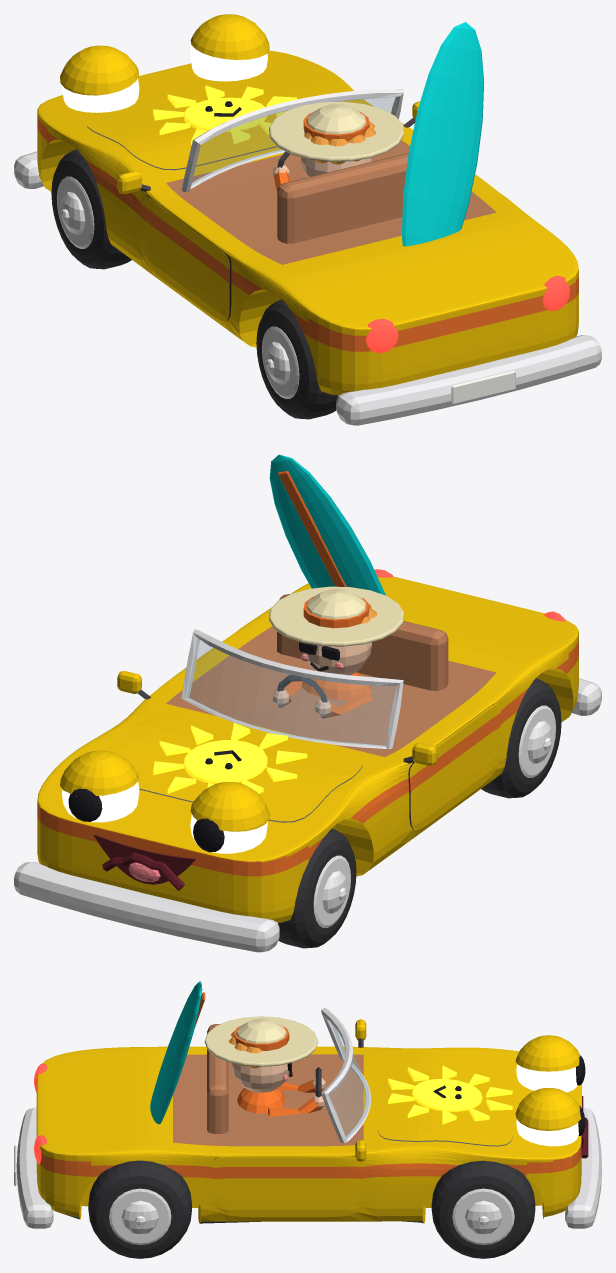
The model's file is car_sunny.glb.
3 renders of one model, top to bottom at view 1: azimuth 30°, elevation 25°; view 2: azimuth 150°, elevation 25°; view 3: azimuth 270°, elevation 25°, orthographic. The views are drawn at different scales.
Parts seen in each view (by area): view 1: body, extra_surfboard, hood, extra_seat, bumper_r, driver, door_l, face_lids, wheel_rl, wheel_fl, glass_f, light_f (+7 smaller); view 2: body, hood, glass_f, driver, bumper_f, extra_surfboard, door_l, face_lids, wheel_fl, extra_seat, wheel_rl, extra_frame (+7 smaller); view 3: body, hood, door_r, driver, wheel_fr, wheel_rr, face_lids, extra_surfboard, bumper_r, bumper_f, light_f, extra_frame (+4 smaller).
Part boxes in pixels (<box>): body: <box>37,51,578,396</box>; extra_surfboard: <box>402,22,484,246</box>; hood: <box>87,71,352,168</box>; extra_seat: <box>277,153,408,243</box>; bumper_r: <box>336,335,601,425</box>; driver: <box>269,101,404,189</box>; door_l: <box>140,195,229,321</box>; face_lids: <box>60,14,269,95</box>; wheel_rl: <box>256,299,337,419</box>; wheel_fl: <box>51,149,131,269</box>; glass_f: <box>191,97,395,185</box>; light_f: <box>62,45,267,112</box>; body: <box>37,576,578,924</box>; hood: <box>103,713,362,821</box>; glass_f: <box>186,637,396,746</box>; driver: <box>269,586,404,718</box>; bumper_f: <box>14,862,279,952</box>; extra_surfboard: <box>269,454,385,595</box>; door_l: <box>409,703,500,829</box>; face_lids: <box>60,750,269,831</box>; wheel_fl: <box>278,828,356,948</box>; extra_seat: <box>277,594,448,690</box>; wheel_rl: <box>481,678,561,798</box>; extra_frame: <box>181,629,403,749</box>; body: <box>36,1046,581,1223</box>; hood: <box>377,1052,513,1145</box>; door_r: <box>213,1155,363,1217</box>; driver: <box>204,1016,325,1116</box>; wheel_fr: <box>431,1160,535,1258</box>; wheel_rr: <box>88,1160,191,1258</box>; face_lids: <box>515,1035,581,1130</box>; extra_surfboard: <box>150,981,205,1124</box>; bumper_r: <box>16,1107,53,1228</box>; bumper_f: <box>565,1107,601,1228</box>; light_f: <box>516,1064,578,1146</box>; extra_frame: <box>321,1007,371,1142</box>.
Size of the model in its own units: 2.25 by 2.14 by 4.32.
